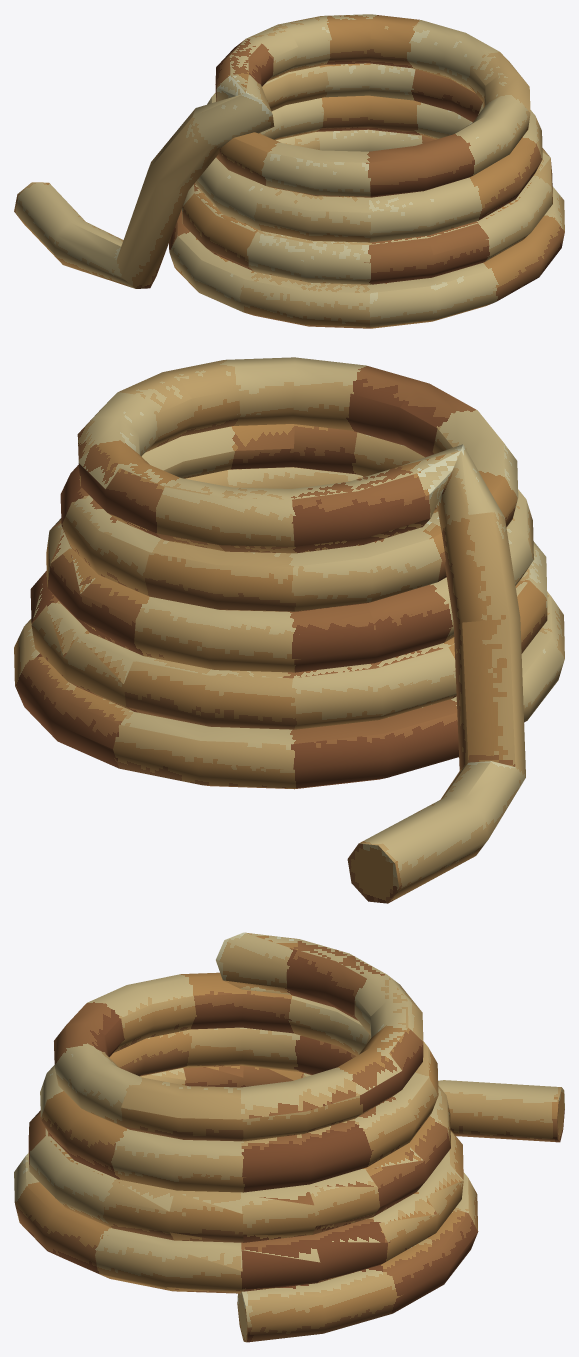
Rendered from rope_coil.glb.
3 views of the same model, one above another, from view 1: azimuth 30°, elevation 25°; view 2: azimuth 150°, elevation 25°; view 3: azimuth 270°, elevation 25° (orthographic). The views are drawn at different scales.
Parts seen in each view (by area): view 1: mesh; view 2: mesh; view 3: mesh.
Boxes of the visible parts, <box> form: mesh: <box>14,14,564,328</box>; mesh: <box>14,357,564,903</box>; mesh: <box>14,932,564,1342</box>.
Size of the model in its own units: 0.7386 by 0.37 by 0.7417.
1 material, 1 textured.
